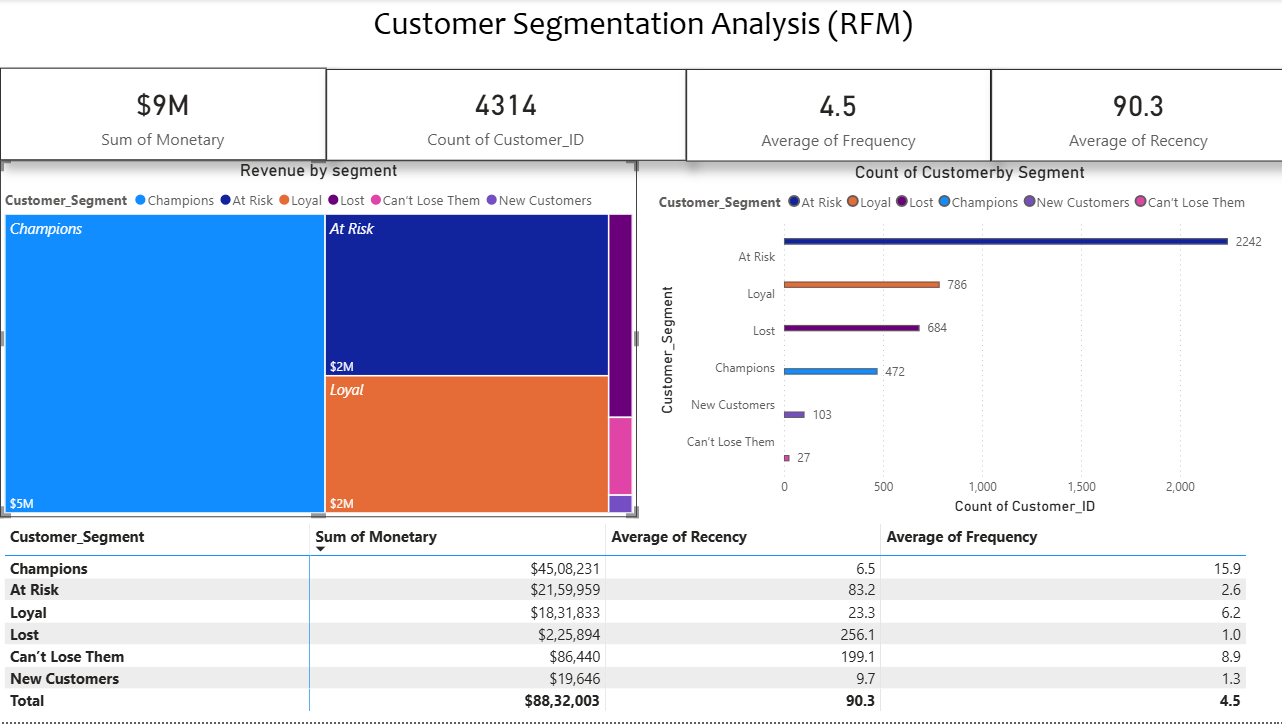

What the dashboard file says about the page in this screenshot:
{"tool":"powerbi","page":{"name":"Page 1","canvas":[1280,720],"ordinal":0},"visuals":[{"type":"treemap","title":"Revenue by segment","fields":{"Values":["Sum(VW_RFM_Segmentation.Monetary)"],"Group":["VW_RFM_Segmentation.Customer_Segment"]},"box":[0,160.5,634.4,355.8],"z":0},{"type":"clusteredBarChart","title":"Count of Customerby Segment","fields":{"Category":["VW_RFM_Segmentation.Customer_Segment"],"Y":["Count(VW_RFM_Segmentation.Customer_ID)"],"Series":["VW_RFM_Segmentation.Customer_Segment"]},"box":[650.6,161.7,629.4,355.8],"z":1},{"type":"card","fields":{"Values":["Sum(VW_RFM_Segmentation.Monetary)"]},"box":[0,68.4,324.7,92.1],"z":2},{"type":"card","fields":{"Values":["Count(VW_RFM_Segmentation.Customer_ID)"]},"box":[324.7,69.7,358.3,90.8],"z":3},{"type":"card","fields":{"Values":["Avg(VW_RFM_Segmentation.Frequency)"]},"box":[682.9,69.7,303.5,92.1],"z":4},{"type":"card","fields":{"Values":["Avg(VW_RFM_Segmentation.Recency)"]},"box":[986.5,69.7,293.6,92.1],"z":5},{"type":"pivotTable","fields":{"Rows":["VW_RFM_Segmentation.Customer_Segment"],"Values":["Sum(VW_RFM_Segmentation.Monetary)","Avg(VW_RFM_Segmentation.Recency)","Avg(VW_RFM_Segmentation.Frequency)"]},"box":[0,517.5,1280,202.8],"z":6},{"type":"textbox","box":[0,0,1280.3,67.2],"z":7}]}

Visuals, with their boxes in screenshot pixels (x1, y1, x2, y2), scaled from the page's 1280x720 canvas onto the 1282x727 screenshot:
"Revenue by segment" treemap: 0 162 635 521
"Count of Customerby Segment" clusteredBarChart: 652 163 1281 523
card - Sum(VW_RFM_Segmentation.Monetary): 0 69 325 162
card - Count(VW_RFM_Segmentation.Customer_ID): 325 70 684 162
card - Avg(VW_RFM_Segmentation.Frequency): 684 70 988 163
card - Avg(VW_RFM_Segmentation.Recency): 988 70 1281 163
pivotTable - VW_RFM_Segmentation.Customer_Segment x Sum(VW_RFM_Segmentation.Monetary): 0 523 1281 726
textbox: 0 0 1281 68
